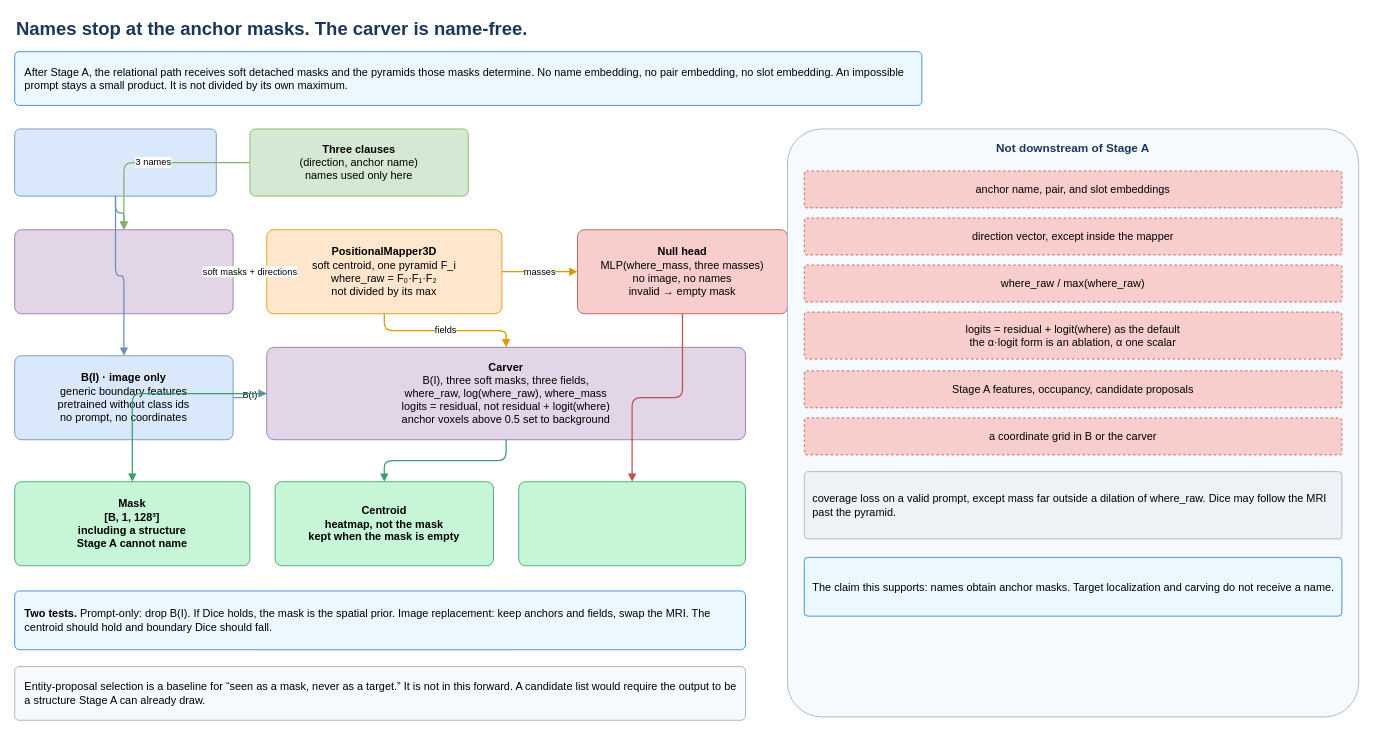
Some shapes in this 1373 by 735 pixel diagram are drawn without their labels. The centre of each missing label's shape, as x and y in pixels:
MRI [B, 1, 128³] z-scored over brain: point (115, 162)
Stage A · frozen three names → logits A = stopgrad(sigmoid) features discarded: point (123, 271)
Valid one logit from field mass only: point (632, 523)
